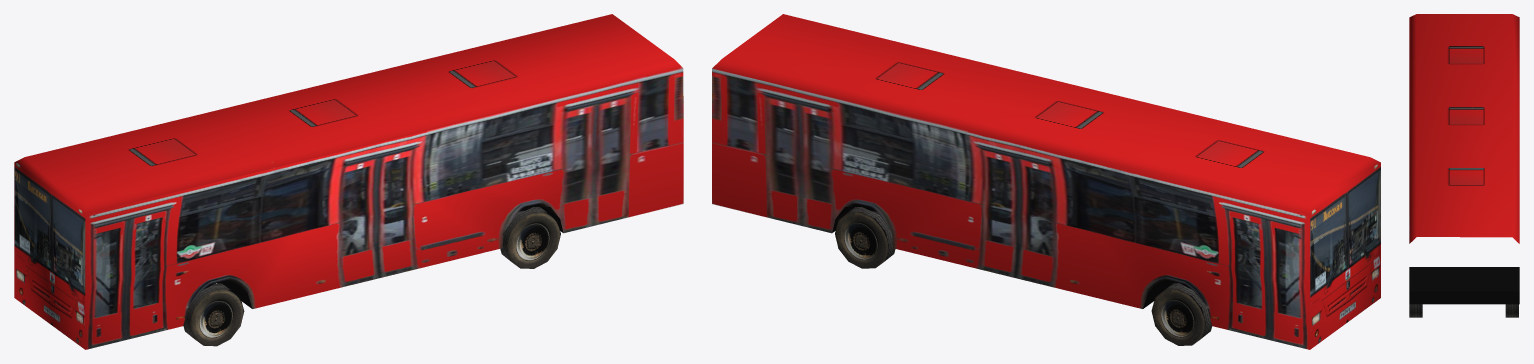
Rendered from bus.FBX.
3 views of the same model, side by side, from view 1: azimuth 30°, elevation 25°; view 2: azimuth 150°, elevation 25°; view 3: azimuth 270°, elevation 25° (orthographic). The views are drawn at different scales.
Visible parts, largest first — view 1: Bus; view 2: Bus; view 3: Bus.
Part boxes in pixels (box(x1,y1,x2,y2)): Bus: box(14, 14, 683, 349); Bus: box(712, 14, 1380, 349); Bus: box(1409, 14, 1519, 317).
Size of the model in its own units: 575 by 157 by 118.
